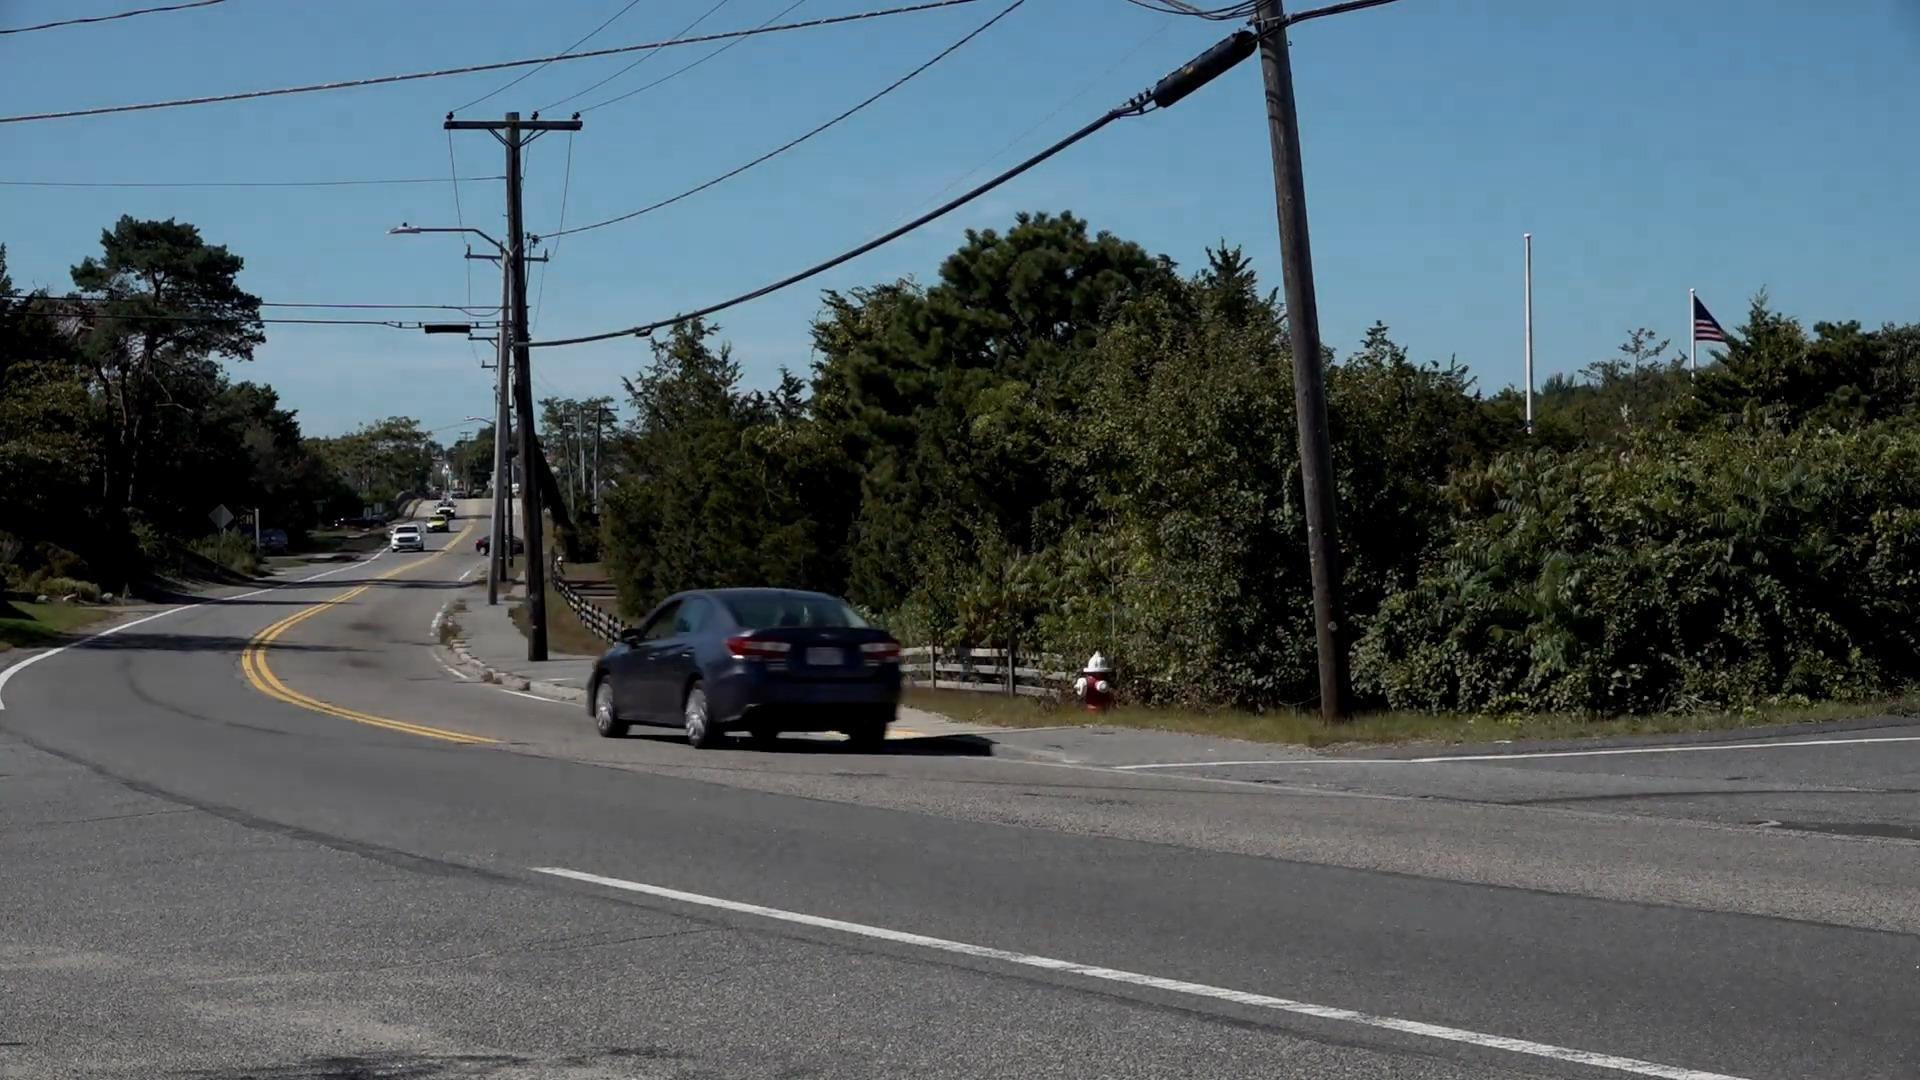sedans: (587, 589, 910, 750)
